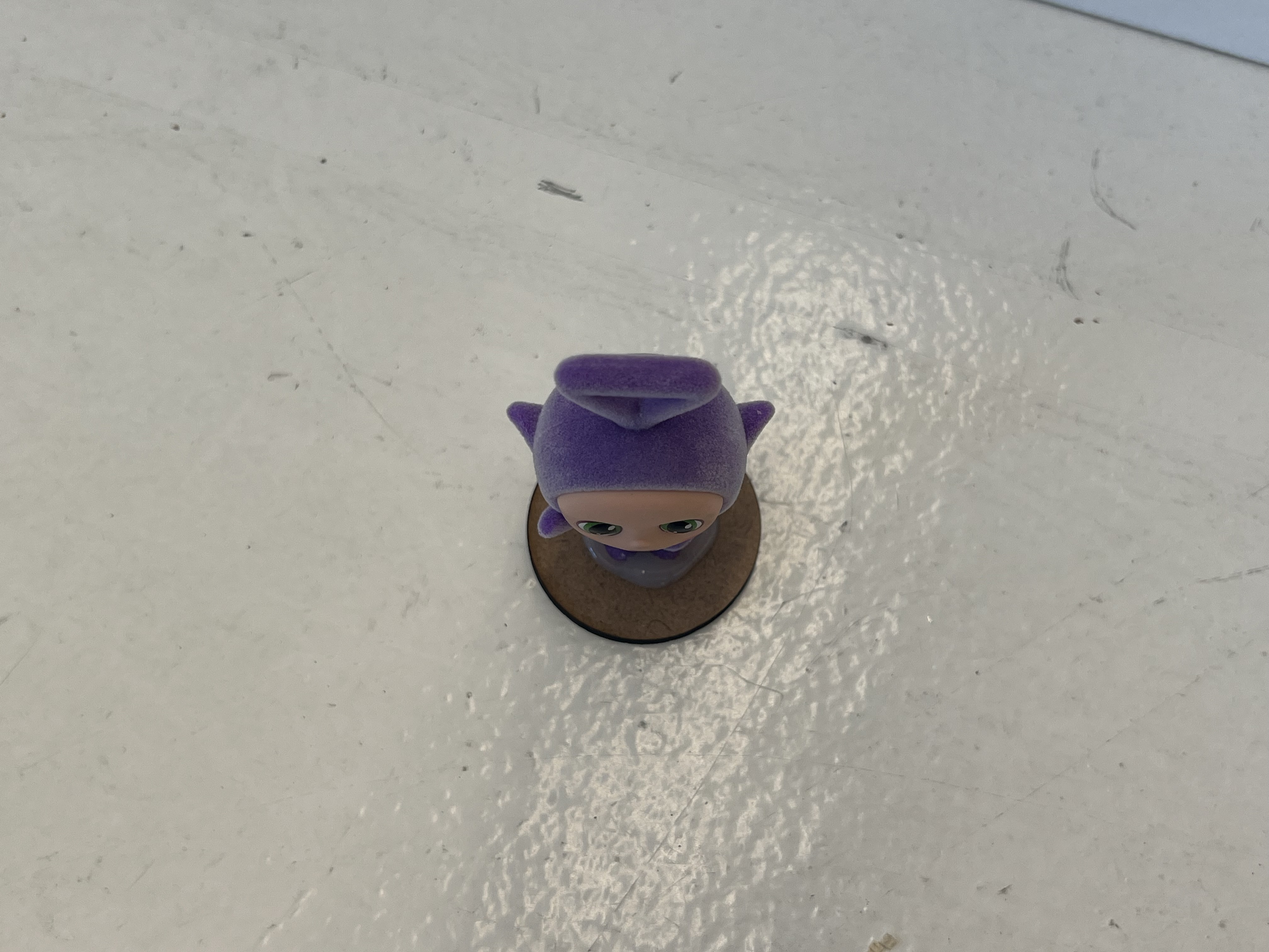teletubby: (507, 354, 774, 551)
